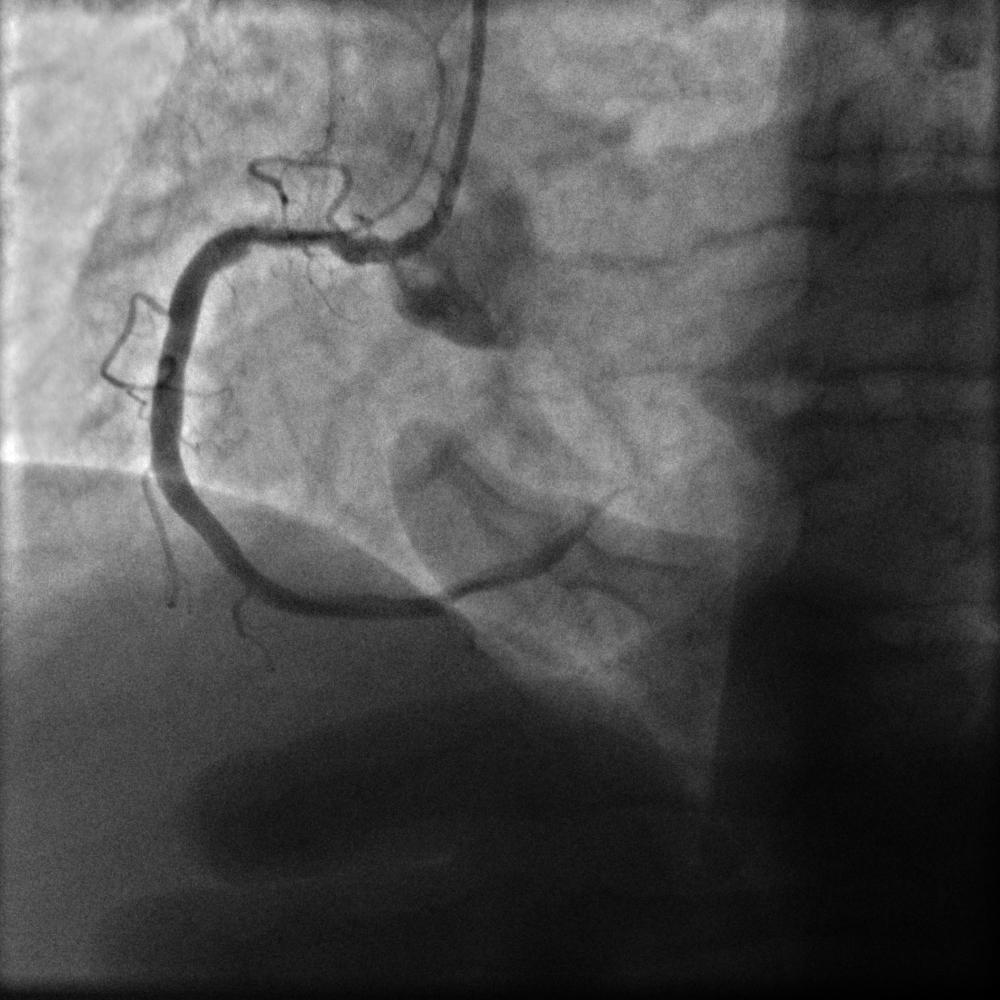Stenosis: (235, 212, 362, 274)
